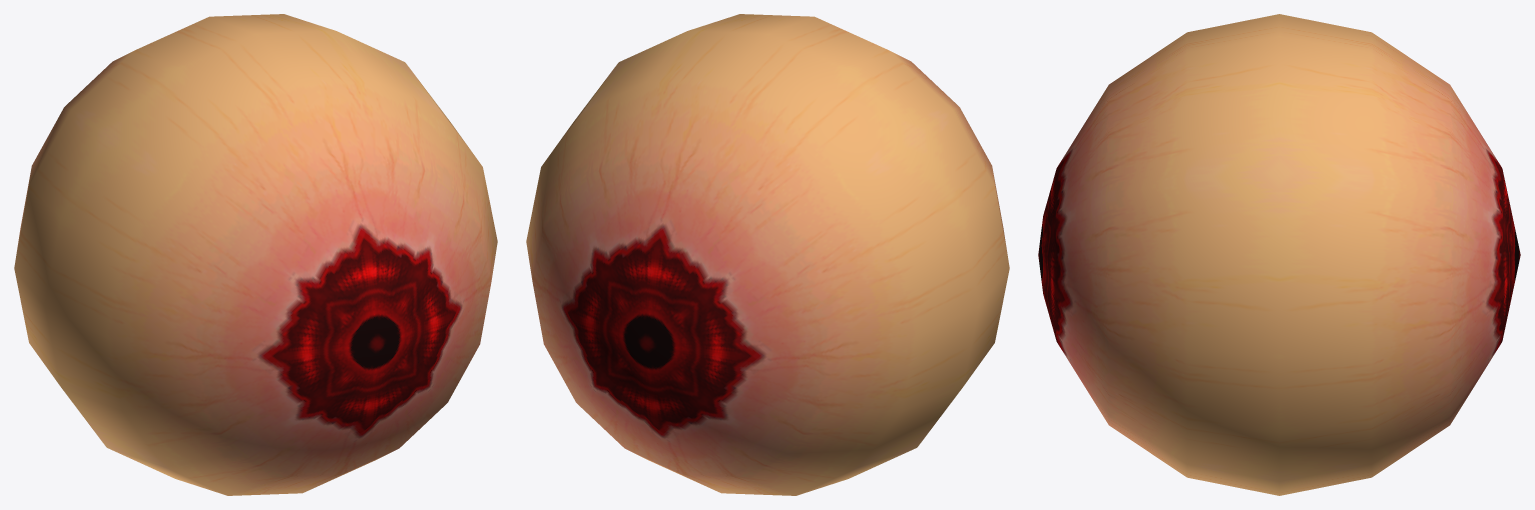
The model's file is EyeLarge.gltf.
The picture shows the model from 3 angles, left to right: view 1: azimuth 30°, elevation 25°; view 2: azimuth 150°, elevation 25°; view 3: azimuth 270°, elevation 25°; orthographic projection.
Visible parts, largest first — view 1: EyeLargeMesh; view 2: EyeLargeMesh; view 3: EyeLargeMesh.
Boxes of the visible parts, x1,y1,x2,y2 form: EyeLargeMesh: [14, 14, 497, 495]; EyeLargeMesh: [526, 14, 1009, 495]; EyeLargeMesh: [1038, 14, 1520, 495].
Size of the model in its own units: 3.6 by 3.6 by 3.6.
Materials: 1 (1 with a texture image).
